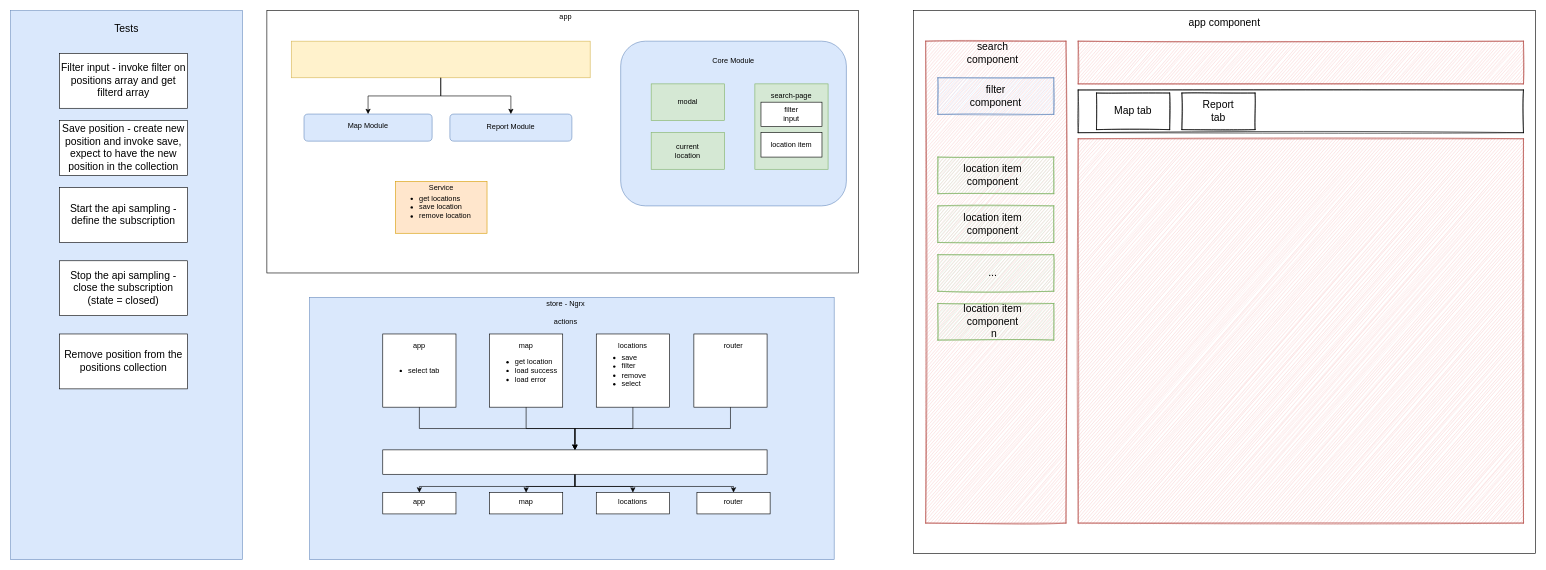
Image size: 1546x570. Some labels were removed from this diagram. Each missing label, with the centre of its shape:
"current location component" goes at (x=1300, y=62).
"hydration.reducer - set or get state from browser local storage" goes at (x=574, y=461).
"Map component / Report component" goes at (x=1300, y=330).
"router outlet" goes at (x=440, y=59).
